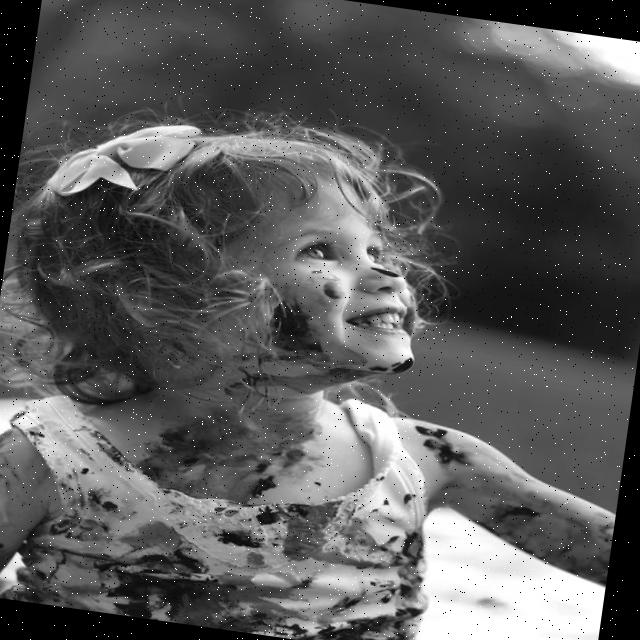Happiness: (202, 164, 439, 388)
